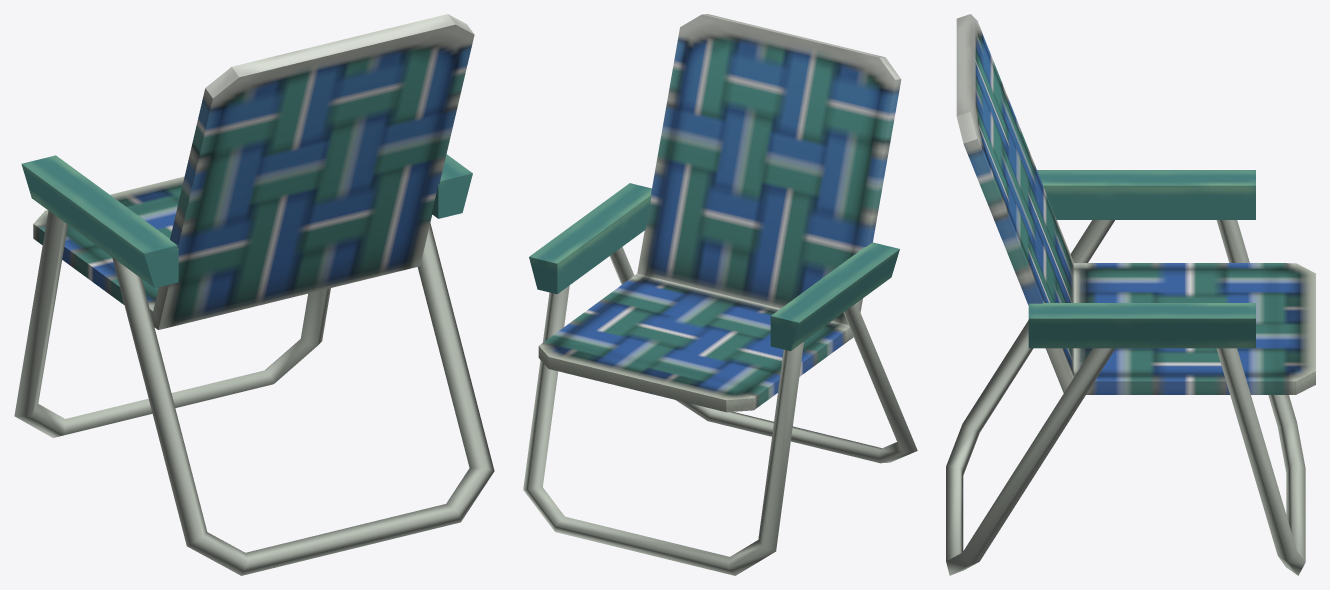
The model's file is FUR0110014.fbx.
The picture shows the model from 3 angles, left to right: view 1: azimuth 30°, elevation 25°; view 2: azimuth 150°, elevation 25°; view 3: azimuth 270°, elevation 25°; orthographic projection. The views are drawn at different scales.
Visible parts, largest first — view 1: smFUR0110014; view 2: smFUR0110014; view 3: smFUR0110014.
Part boxes in pixels (x1,y1,x2,y2): smFUR0110014: (14, 14, 494, 575); smFUR0110014: (523, 14, 917, 575); smFUR0110014: (946, 14, 1315, 575).
Bounding box in the file's own units: 89.01 × 129 × 93.63.
1 material, 1 textured.
